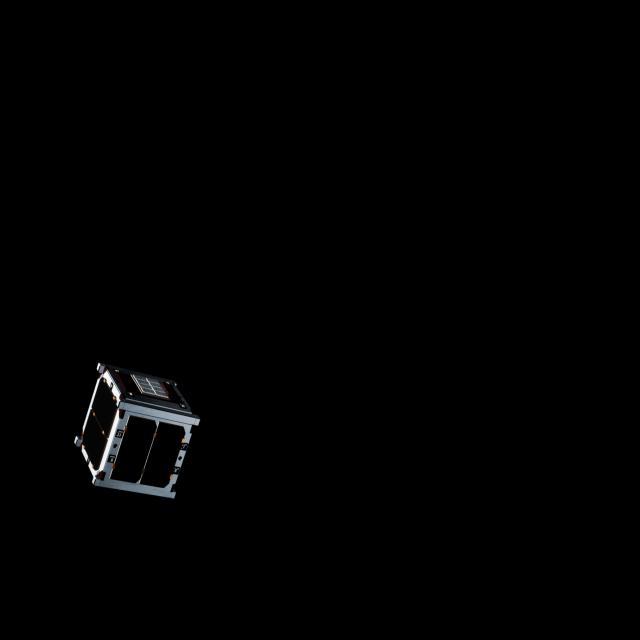satellite: (75, 356, 205, 503)
